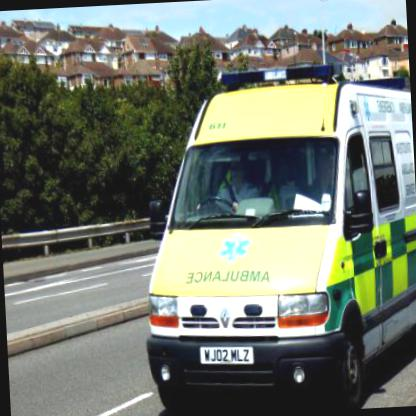truck: (126, 20, 415, 415)
